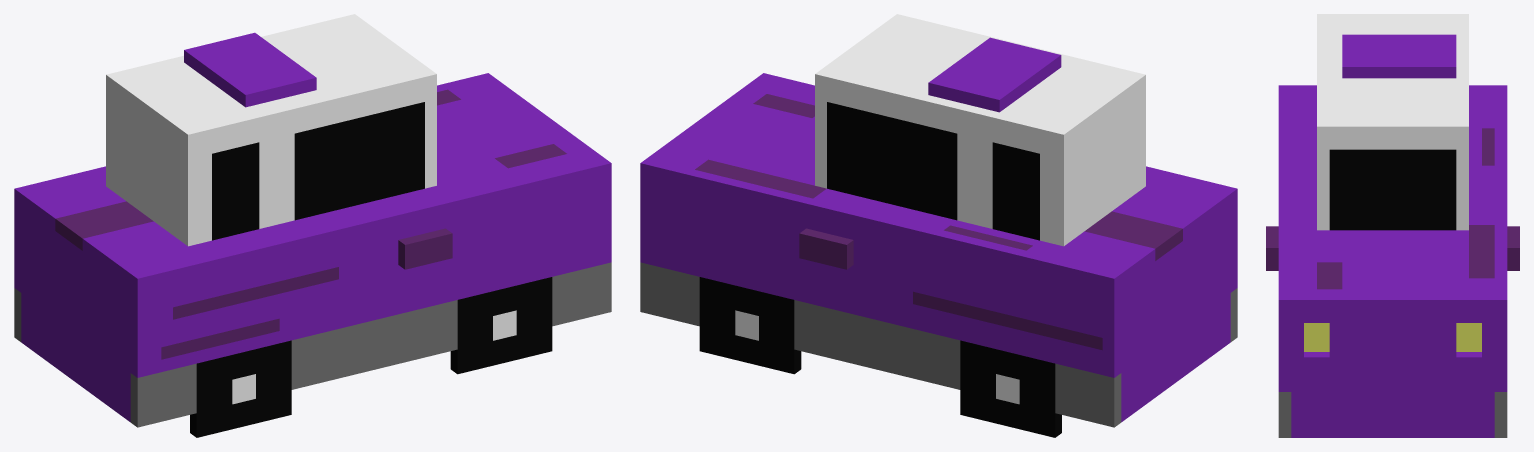
File: coche_lila.obj
The picture shows the model from 3 angles, left to right: view 1: azimuth 30°, elevation 25°; view 2: azimuth 150°, elevation 25°; view 3: azimuth 270°, elevation 25°; orthographic projection. The views are drawn at different scales.
Size of the model in its own units: 40 by 24 by 20.
Materials: 1 (1 with a texture image).
